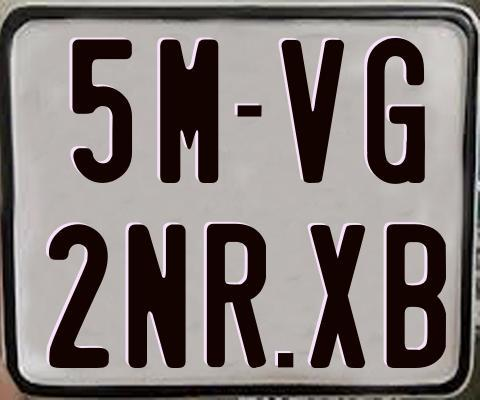2: (47, 221, 111, 367)
5: (72, 36, 138, 186)
B: (385, 223, 444, 371)
G: (365, 36, 428, 188)
M: (159, 38, 220, 185)
N: (127, 224, 190, 374)
R: (207, 222, 267, 366)
V: (278, 38, 346, 185)
X: (307, 223, 368, 366)
